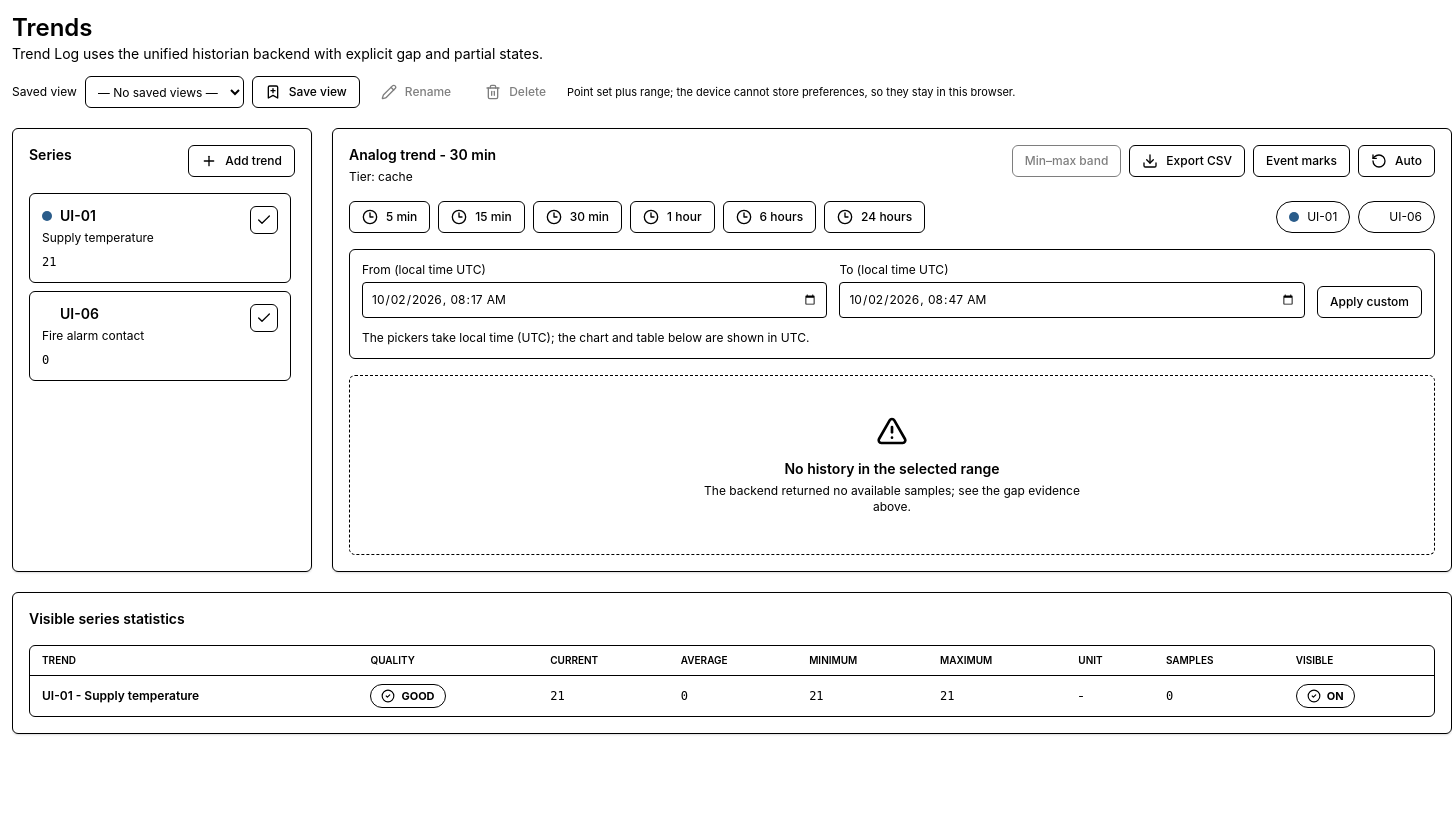
Test case: Trends history request routing › marks the panel Custom immediately while the database request is pending
Replace the text in the field labelled "From (local time UTC)" with "2026-07-22T03:10" at (595, 300), box [362, 282, 828, 318]
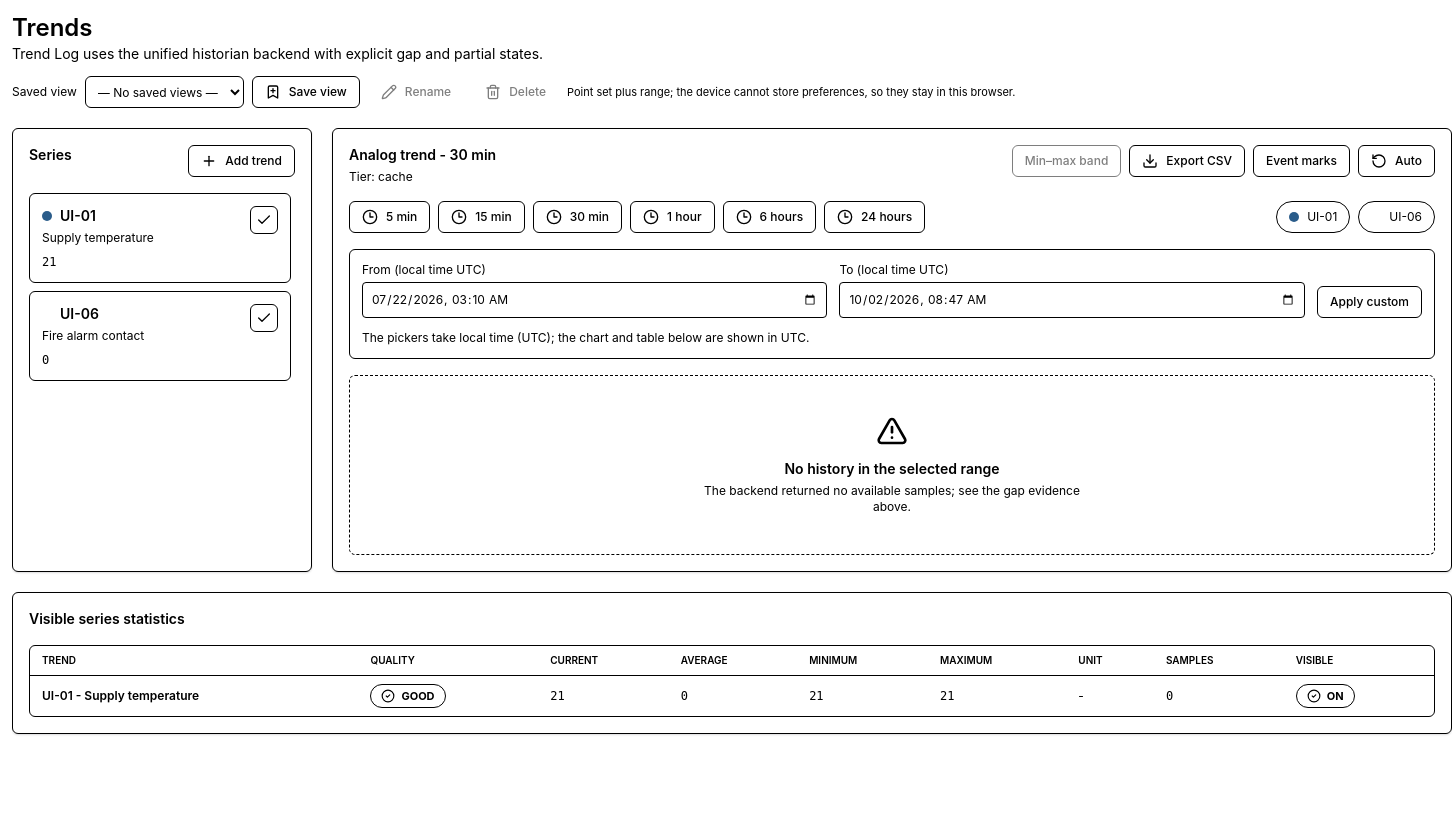
Replace the text in the field labelled "To (local time UTC)" with "2026-07-23T03:40" at (1072, 300), box [840, 282, 1305, 318]
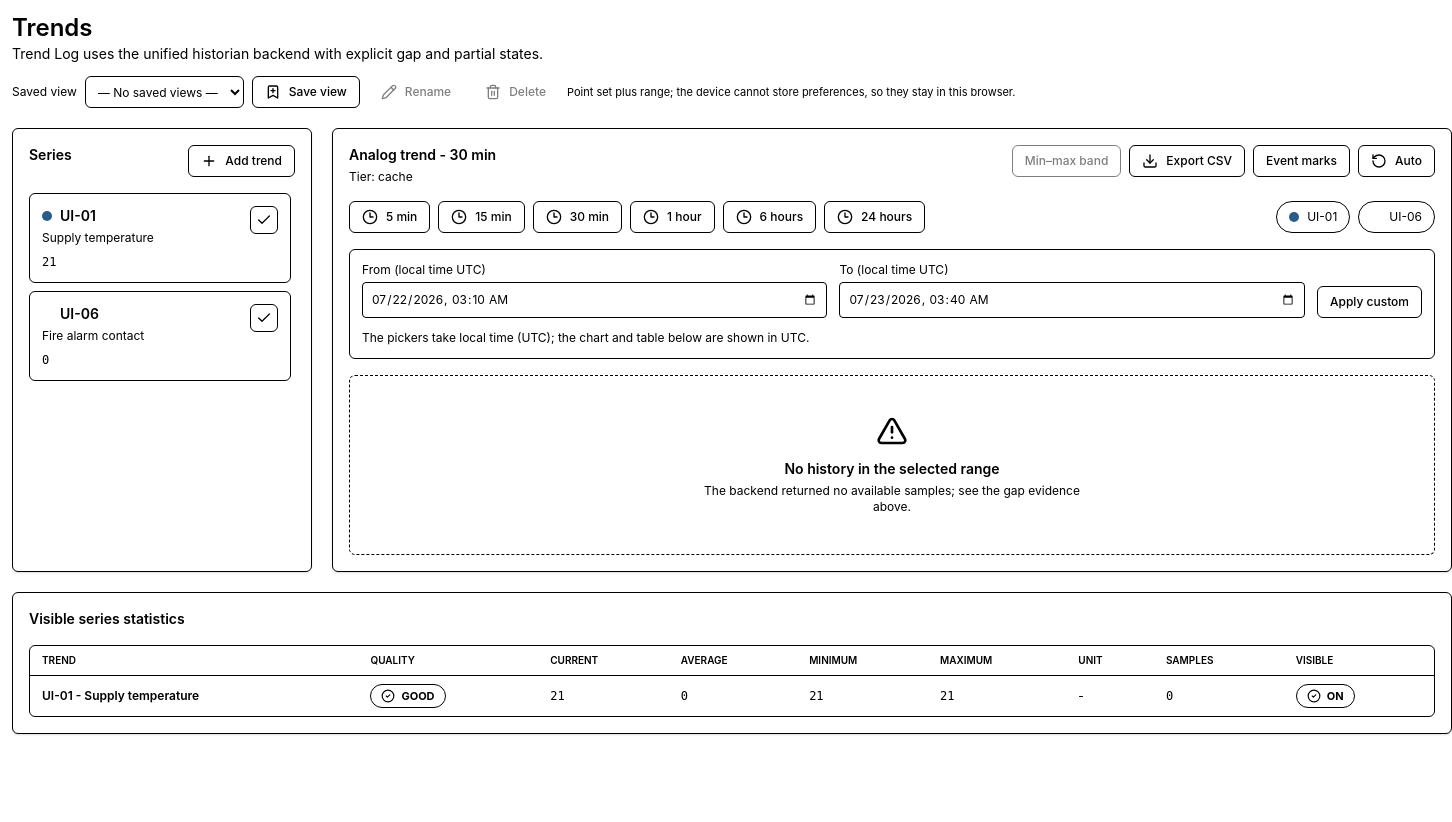
Click the button "Apply custom" at (1370, 302), box [1317, 286, 1422, 318]
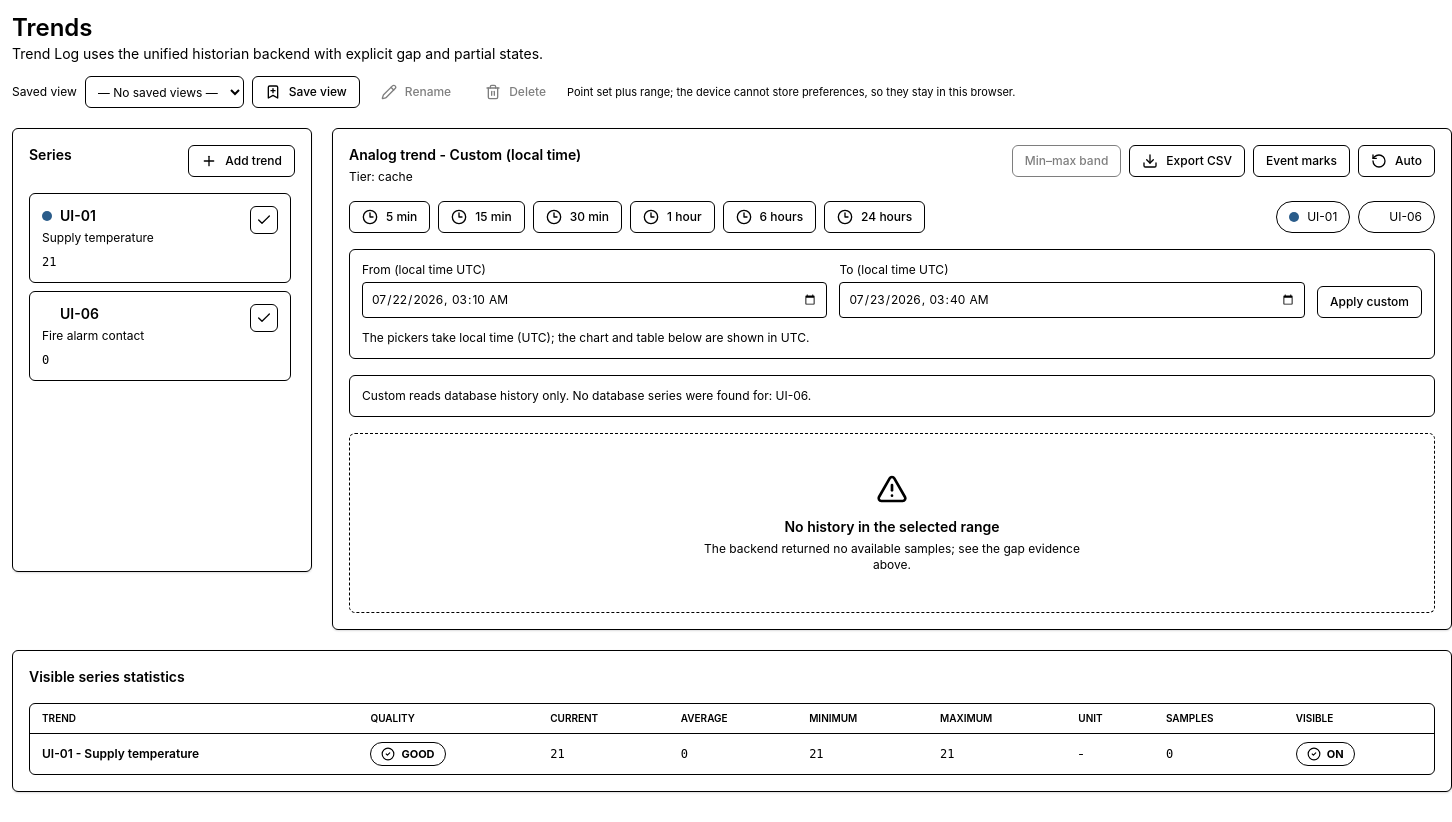
Expected: the heading "Analog trend - Custom (local time)" is shown, [349, 145, 581, 165]
